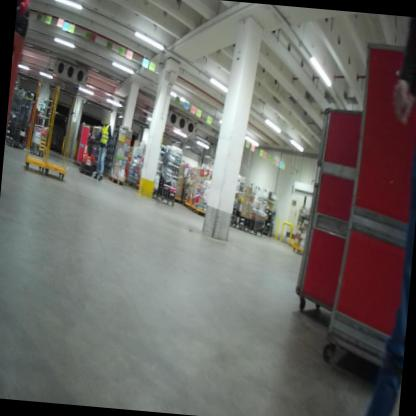pallet: (107, 176, 126, 187)
pallet_truck: (6, 7, 33, 143), (76, 134, 101, 182)
